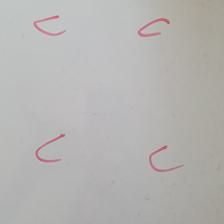circular-plasmid: (148, 145, 183, 173), (35, 133, 64, 163), (33, 15, 67, 35), (137, 16, 171, 36)
